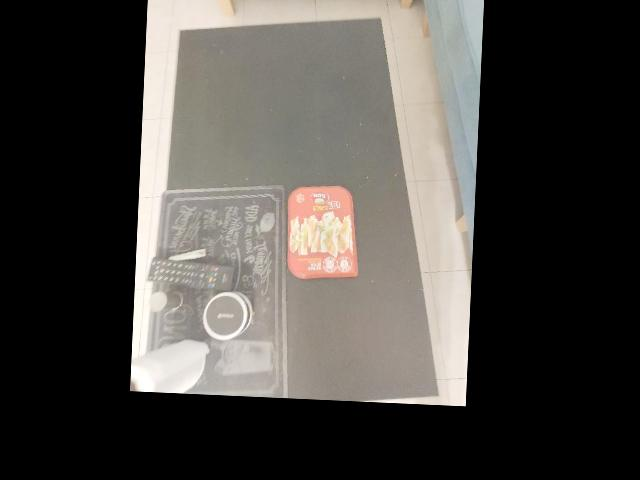cheese: (281, 186, 365, 280)
